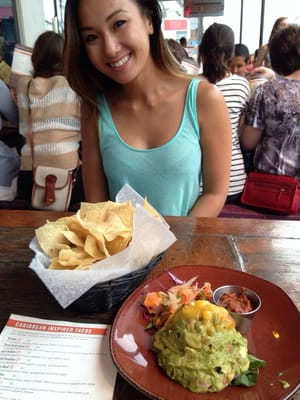sushi: (108, 264, 299, 399), (213, 285, 262, 335)
